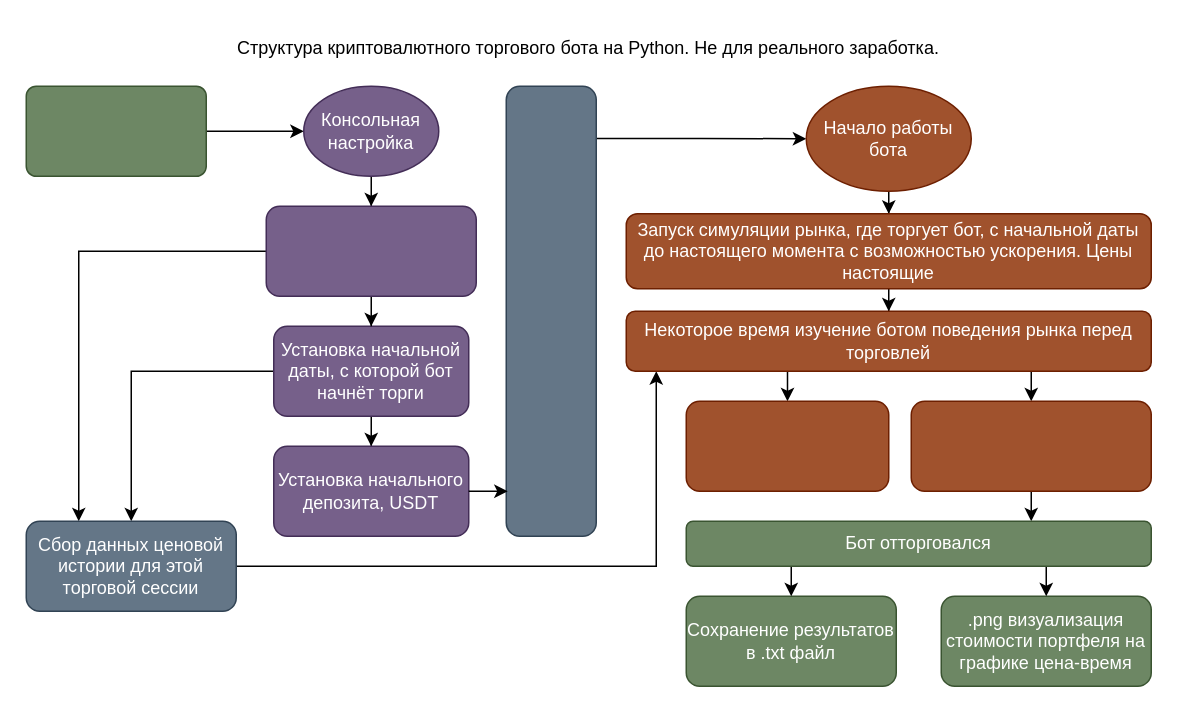
Image size: 1178x713. Some labels were removed from this diagram. Each missing label, with the box of its shape:
Конец настройки: (505, 85, 596, 536)
Обновление и/или стандартизация алгоритма (опционально): (685, 400, 889, 491)
Торговля до настоящего момента: (910, 400, 1151, 491)
Установка тикера. Например, ETHUSDT, BTCUSDT: (265, 205, 476, 296)
Файл запуска run .py: (25, 85, 206, 176)
